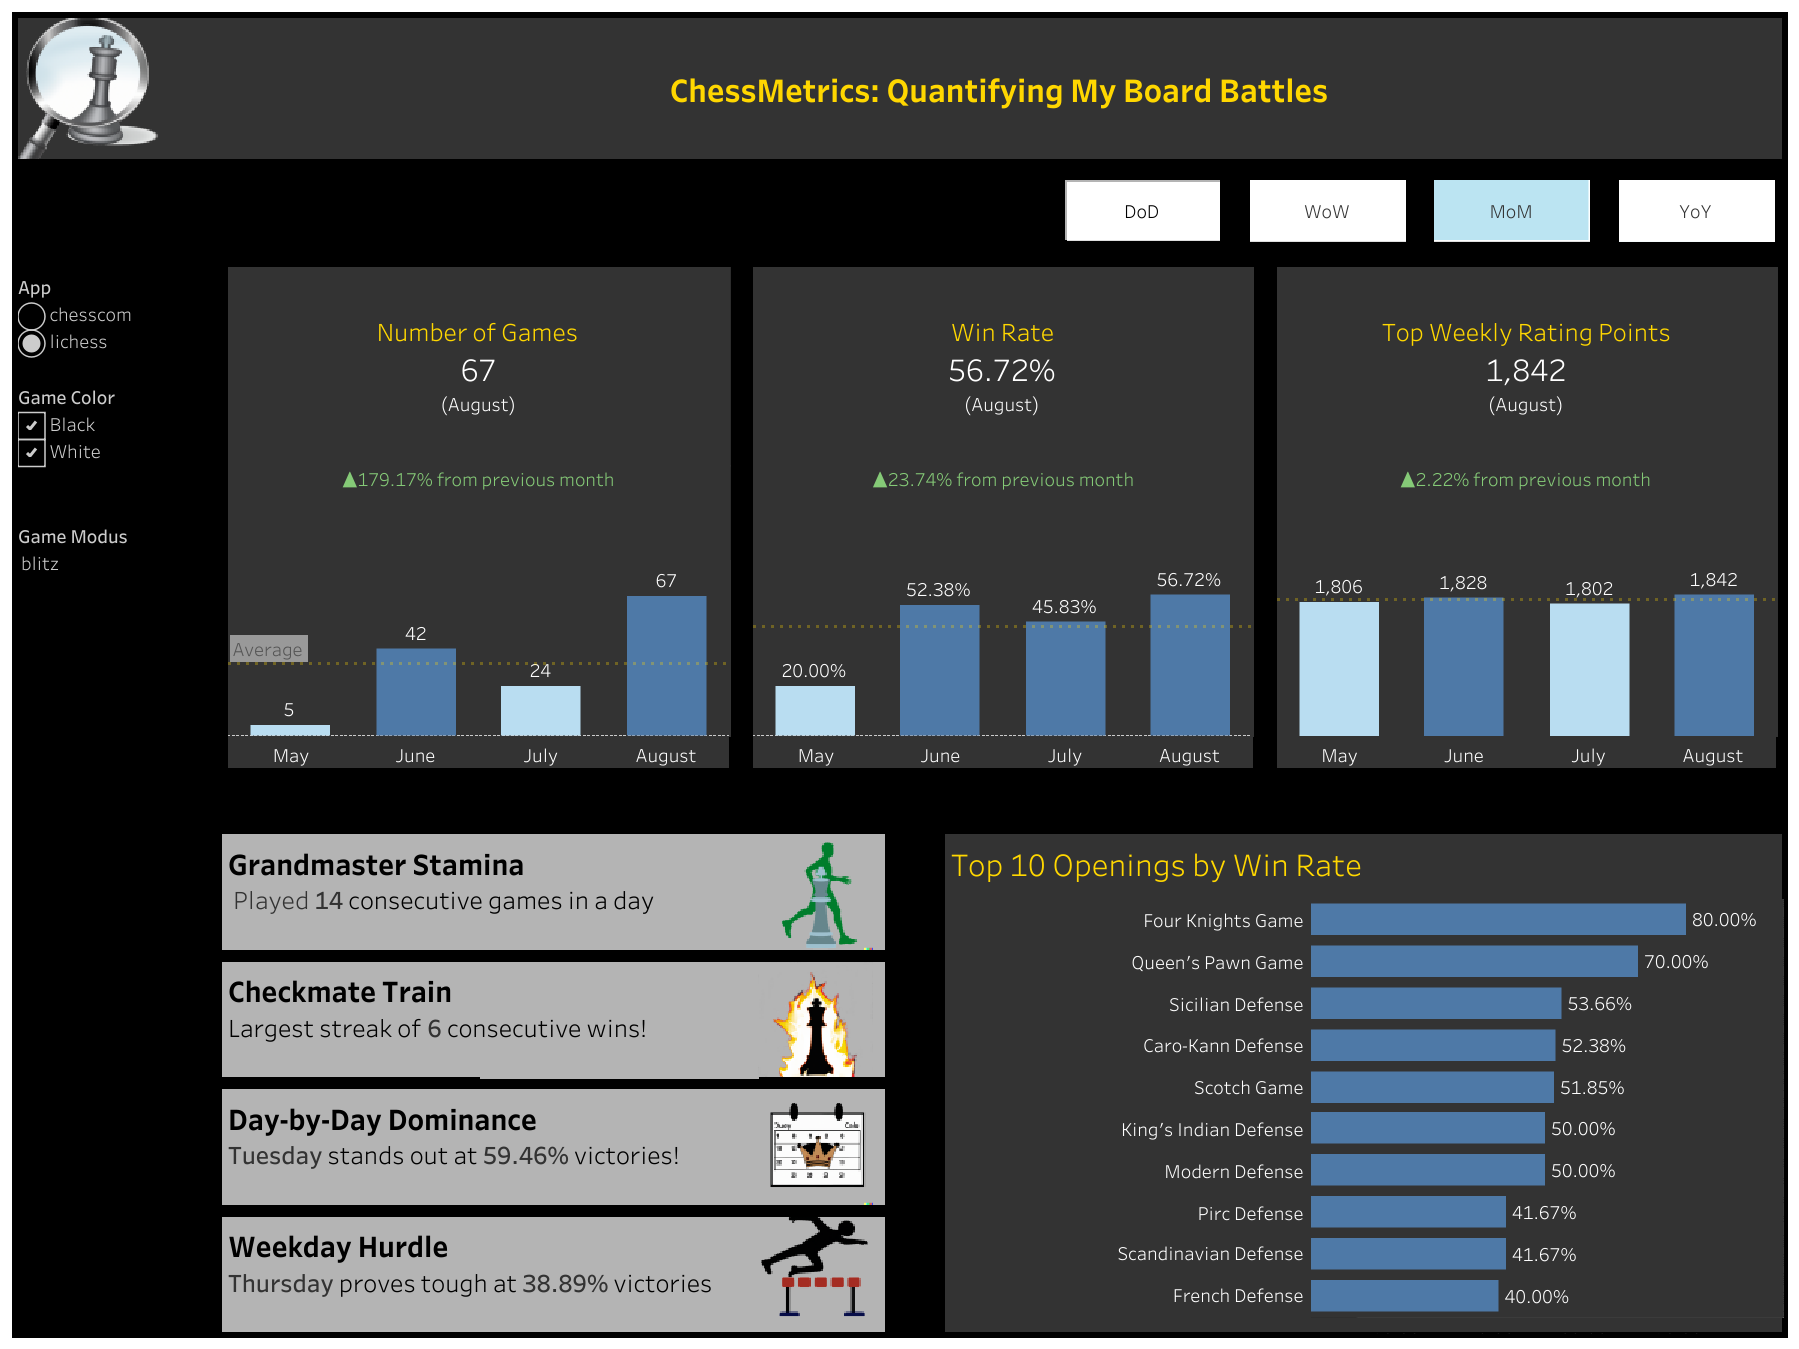

Layout of this report page (visuals, bound fields, positions):
{"tool":"tableau","page":{"name":"ChessMetrics: Quantifying My Board Battles","canvas":[1300,900],"ordinal":0},"visuals":[{"type":"image","param":"Image/DALL·E 2023-08-17 17.40.26.png","box":[8,8,147,102]},{"type":"text","box":[155,8,1137,102]},{"type":"blank","box":[8,110,147,60]},{"type":"blank","box":[155,110,556,60]},{"type":"worksheet","title":"DoD","mark":"Automatic","box":[711,110,145.2,60]},{"type":"worksheet","title":"WoW","mark":"Automatic","box":[856.2,110,145.2,60]},{"type":"worksheet","title":"MoM","mark":"Automatic","box":[1001.5,110,145.2,60]},{"type":"worksheet","title":"YoY","mark":"Automatic","box":[1146.7,110,145.2,60]},{"type":"filter","title":"Number Games","param":"[federated.0vcdzo7090vly91cwa7ej1c8807n].[none:plattform:nk]","box":[8,170,147,101]},{"type":"worksheet","title":"Number Games","mark":"Automatic","box":[155,170,379,140]},{"type":"worksheet","title":"Number Win Rate","mark":"Automatic","box":[534,170,379,140]},{"type":"worksheet","title":"max Rating weekly","mark":"Automatic","box":[913,170,379,140]},{"type":"filter","title":"Number Games","param":"[federated.0vcdzo7090vly91cwa7ej1c8807n].[none:played_white (copy)_1714182638502","box":[8,271,147,121]},{"type":"worksheet","title":"Diff Games","mark":"Automatic","box":[155,310,379,63]},{"type":"worksheet","title":"Diff Win rate","mark":"Automatic","box":[534,310,379,63]},{"type":"worksheet","title":"Diff rating","mark":"Automatic","box":[913,310,379,63]},{"type":"worksheet","title":"Number Games bars","mark":"Bar","rows":["Calculation_1714182638505779203"],"cols":["Calculation_528610066216214577"],"box":[155,373,379,147]},{"type":"worksheet","title":"Number Win Rate Bars","mark":"Bar","rows":["Calculation_2064900459207860230"],"cols":["Calculation_528610066216214577"],"box":[534,373,379,147]},{"type":"worksheet","title":"Number Rating bars","mark":"Bar","rows":["my_rating"],"cols":["Calculation_528610066216214577"],"box":[913,373,379,147]},{"type":"filter","title":"Number Games","param":"[federated.0vcdzo7090vly91cwa7ej1c8807n].[none:speed:nk]","box":[8,392,147,70]},{"type":"blank","box":[155,520,1137,32]},{"type":"worksheet","title":"Most games per day","mark":"Automatic","rows":["date"],"box":[155,552,361,85]},{"type":"image","param":"Image/DALL·E 2023-08-16 13.37.03 - Marathon Runner.png","box":[516,552,89,85]},{"type":"blank","box":[605,552,32,340]},{"type":"worksheet","title":"Top 10 Openings by Win Rate","mark":"Automatic","rows":["opening"],"cols":["Calculation_2064900459207860230"],"box":[637,552,655,340]},{"type":"worksheet","title":"Longest win Streak","mark":"Automatic","rows":["date"],"box":[155,637,361,85]},{"type":"image","param":"Image/DALL·E 2023-08-17 14.25.49.png","box":[516,637,89,85]},{"type":"worksheet","title":"Best Weekday","mark":"Automatic","rows":["Calculation_2064900459224465418","_9B14BC5C570943E7A59191895F2F1492"],"box":[155,722,361,85]},{"type":"image","param":"Image/DALL·E 2023-08-17 14.44.39 - Calendar Crown.png","box":[516,722,89,85]},{"type":"worksheet","title":"Worst Weekday","mark":"Automatic","rows":["Calculation_2064900459224465418","_9B14BC5C570943E7A59191895F2F1492"],"box":[155,807,361,85]},{"type":"image","param":"Image/DALL·E 2023-08-17 14.49.43 - Hurdling Figure.png","box":[516,807,89,85]}]}

Visuals, with their boxes on the page's 1300x900 design canvas (x1, y1, x2, y2). These are canvas units, not pixel positions in the 1799x1349 screenshot, which may show the page scaled, cropped or inside an application window:
image: bbox(8, 8, 155, 110)
text: bbox(155, 8, 1292, 110)
blank: bbox(8, 110, 155, 170)
blank: bbox(155, 110, 711, 170)
"DoD" worksheet: bbox(711, 110, 856, 170)
"WoW" worksheet: bbox(856, 110, 1001, 170)
"MoM" worksheet: bbox(1002, 110, 1147, 170)
"YoY" worksheet: bbox(1147, 110, 1292, 170)
"Number Games" filter: bbox(8, 170, 155, 271)
"Number Games" worksheet: bbox(155, 170, 534, 310)
"Number Win Rate" worksheet: bbox(534, 170, 913, 310)
"max Rating weekly" worksheet: bbox(913, 170, 1292, 310)
"Number Games" filter: bbox(8, 271, 155, 392)
"Diff Games" worksheet: bbox(155, 310, 534, 373)
"Diff Win rate" worksheet: bbox(534, 310, 913, 373)
"Diff rating" worksheet: bbox(913, 310, 1292, 373)
"Number Games bars" worksheet (Bar marks): bbox(155, 373, 534, 520)
"Number Win Rate Bars" worksheet (Bar marks): bbox(534, 373, 913, 520)
"Number Rating bars" worksheet (Bar marks): bbox(913, 373, 1292, 520)
"Number Games" filter: bbox(8, 392, 155, 462)
blank: bbox(155, 520, 1292, 552)
"Most games per day" worksheet: bbox(155, 552, 516, 637)
image: bbox(516, 552, 605, 637)
blank: bbox(605, 552, 637, 892)
"Top 10 Openings by Win Rate" worksheet: bbox(637, 552, 1292, 892)
"Longest win Streak" worksheet: bbox(155, 637, 516, 722)
image: bbox(516, 637, 605, 722)
"Best Weekday" worksheet: bbox(155, 722, 516, 807)
image: bbox(516, 722, 605, 807)
"Worst Weekday" worksheet: bbox(155, 807, 516, 892)
image: bbox(516, 807, 605, 892)
